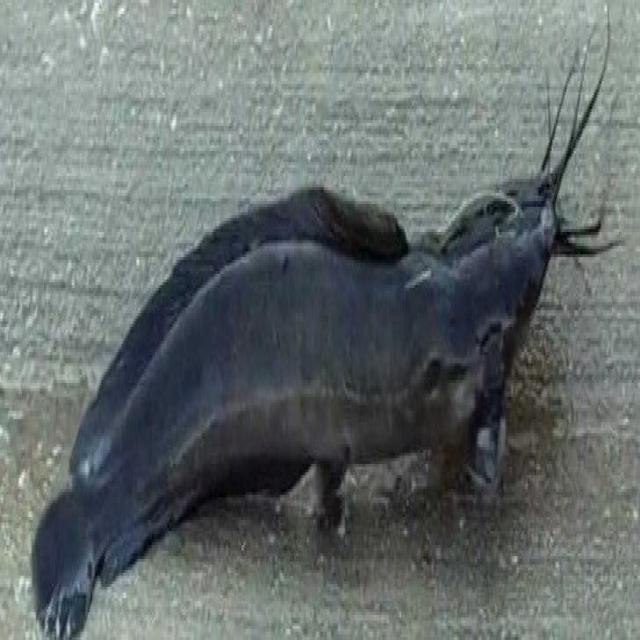Catfish: (11, 74, 616, 640)
